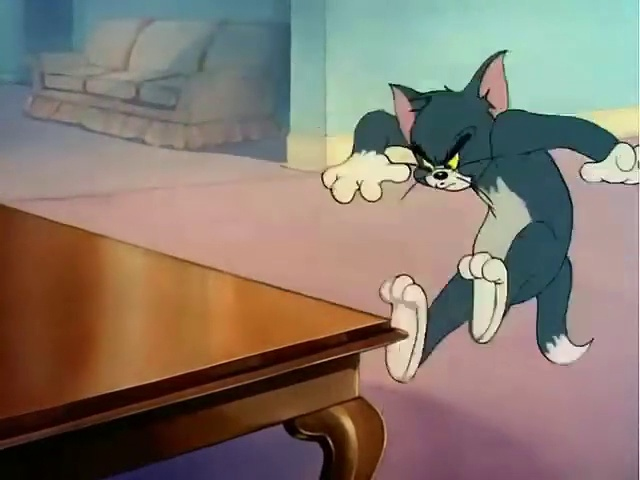tom: (310, 32, 634, 381)
